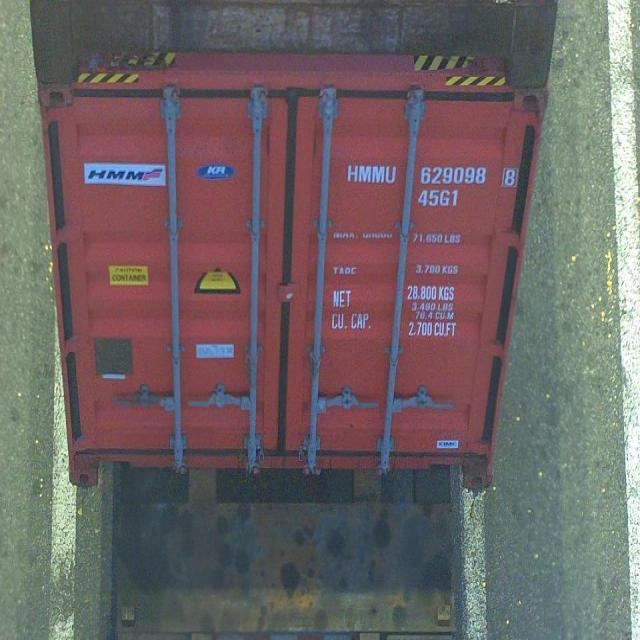ISO: (416, 189, 462, 209)
container_number: (352, 165, 520, 188)
